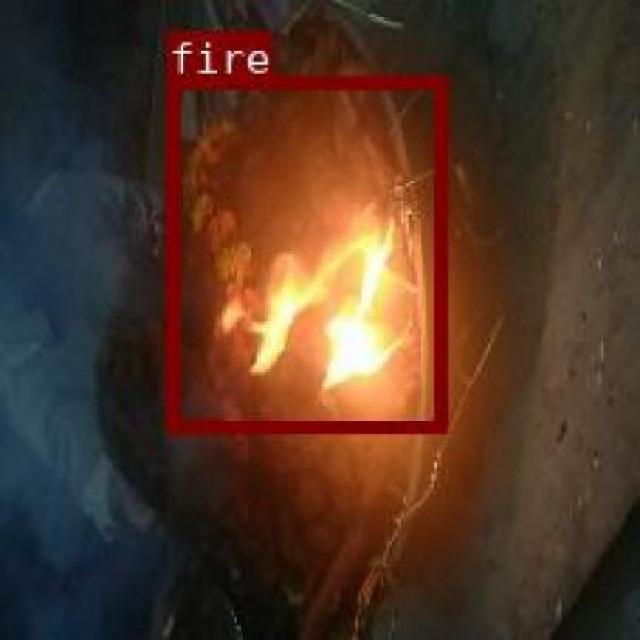Fire: (165, 74, 442, 430)
